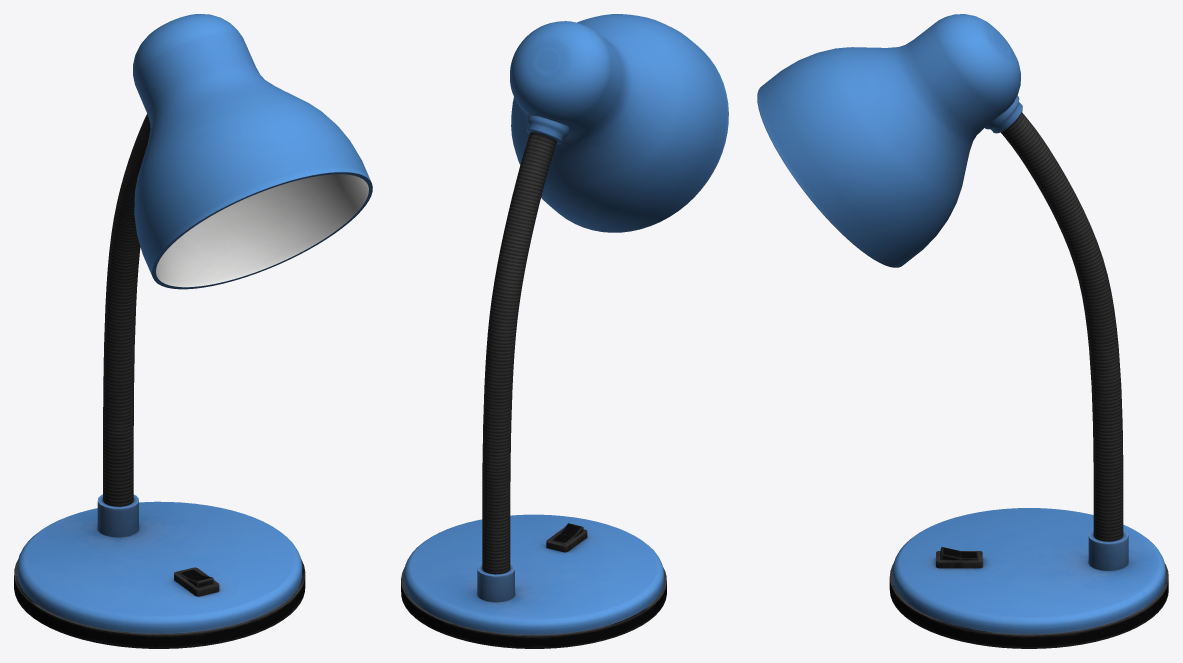
File: table_lamp.glb
The picture shows the model from 3 angles, left to right: view 1: azimuth 30°, elevation 25°; view 2: azimuth 150°, elevation 25°; view 3: azimuth 270°, elevation 25°; orthographic projection. The views are drawn at different scales.
Parts seen in each view (by area): view 1: Base_Table_Lamp_0; view 2: Base_Table_Lamp_0; view 3: Base_Table_Lamp_0.
Part boxes in pixels (box(x1,y1,x2,y2)): Base_Table_Lamp_0: box(14, 14, 372, 648); Base_Table_Lamp_0: box(401, 14, 728, 648); Base_Table_Lamp_0: box(757, 14, 1168, 648).
Bounding box in the file's own units: 0.1513 × 0.3412 × 0.2232.
Materials: 1 (1 with a texture image).
